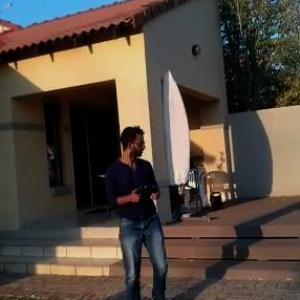follow: (105, 124, 179, 299)
